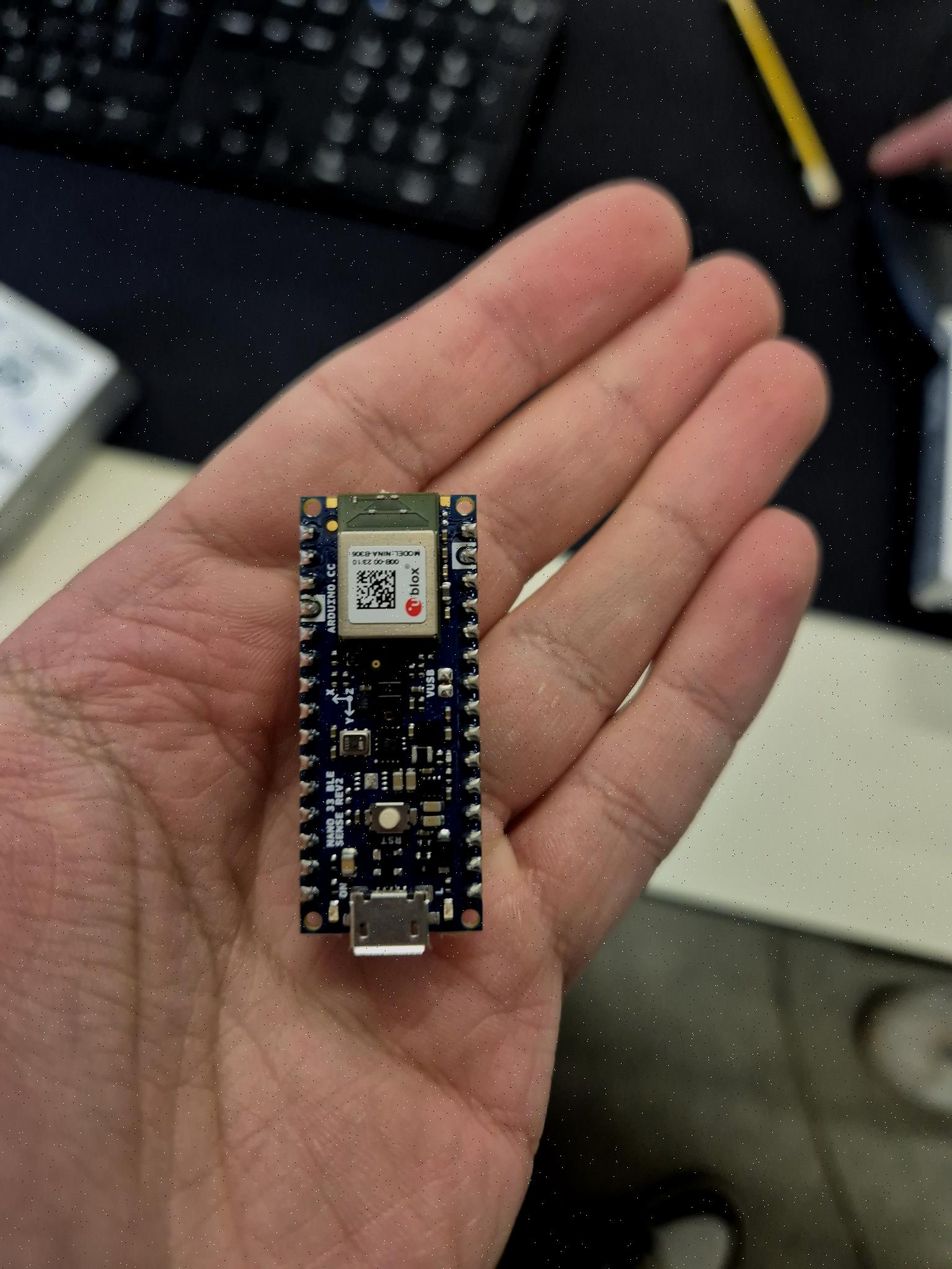arduino-nano-ble-sense: (300, 493, 482, 956)
